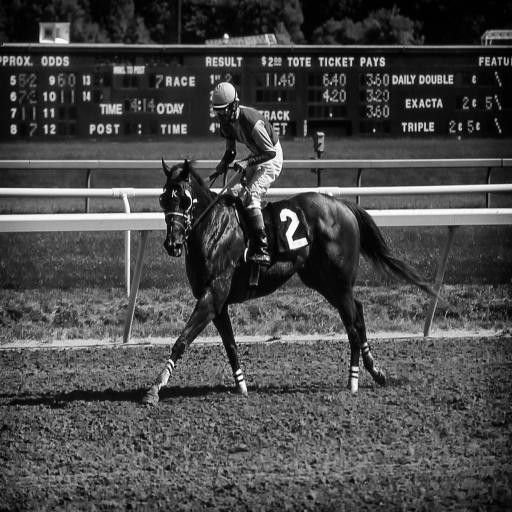horse: (140, 154, 446, 406)
